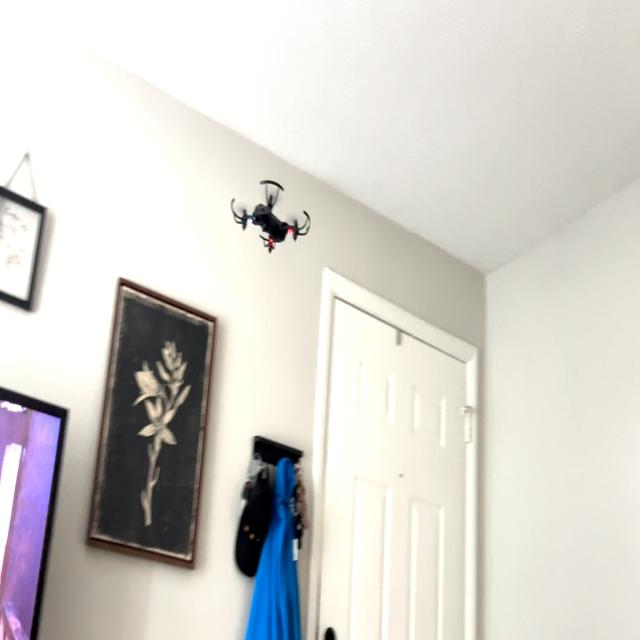drone: (218, 156, 318, 270)
